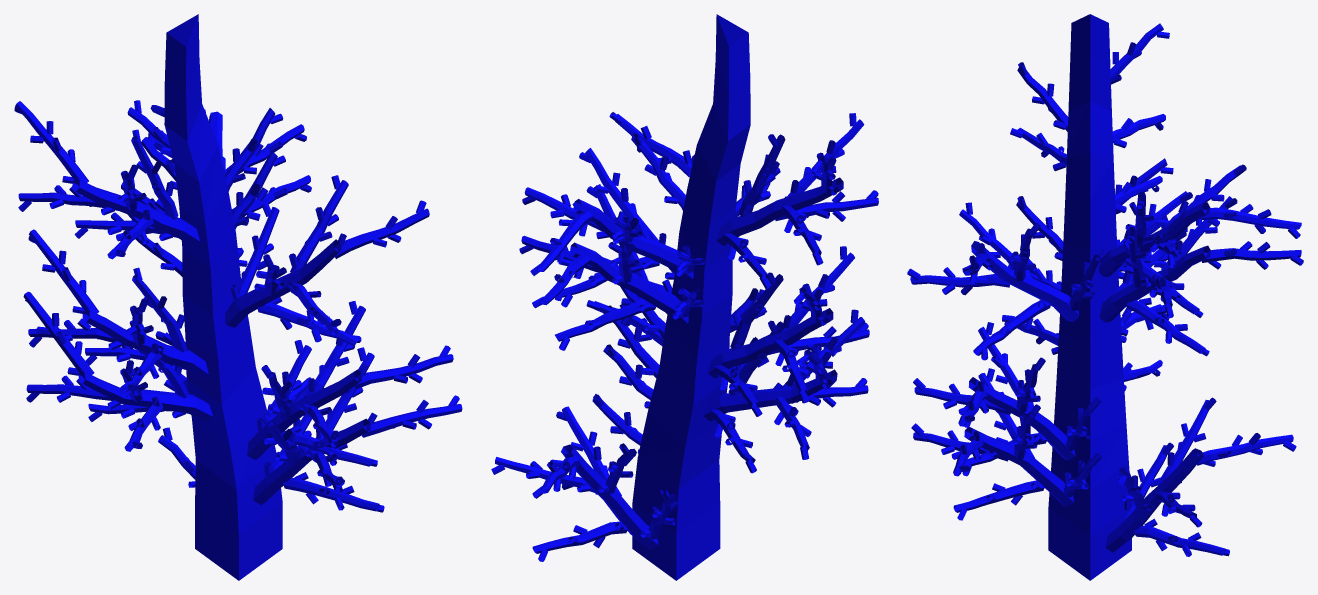
The model's file is New tree.fbx.
3 renders of one model, left to right at view 1: azimuth 30°, elevation 25°; view 2: azimuth 150°, elevation 25°; view 3: azimuth 270°, elevation 25°, orthographic. The views are drawn at different scales.
Parts seen in each view (by area): view 1: Cube; view 2: Cube; view 3: Cube.
Boxes of the visible parts, box(x1,y1,x2,y2) form: Cube: box(14, 14, 462, 580); Cube: box(491, 14, 878, 580); Cube: box(907, 14, 1303, 580).
Size of the model in its own units: 7.78 by 12.09 by 8.23.
